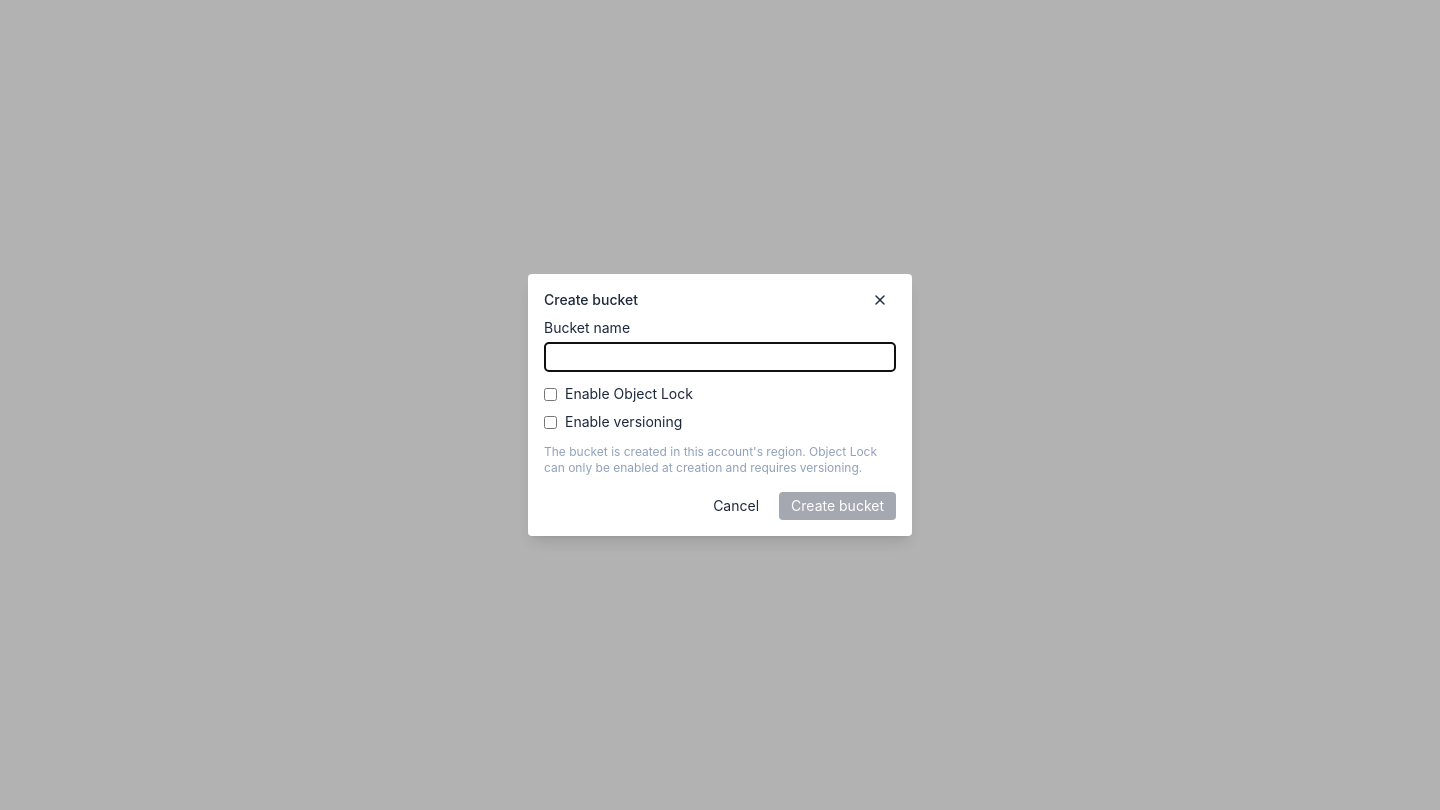
Scenario: CreateBucketDialog › shows an error and stays open when creation fails
In the field labelled "Bucket name": (720, 357) top-left (544, 342), bottom-right (896, 372), type "my-bucket"
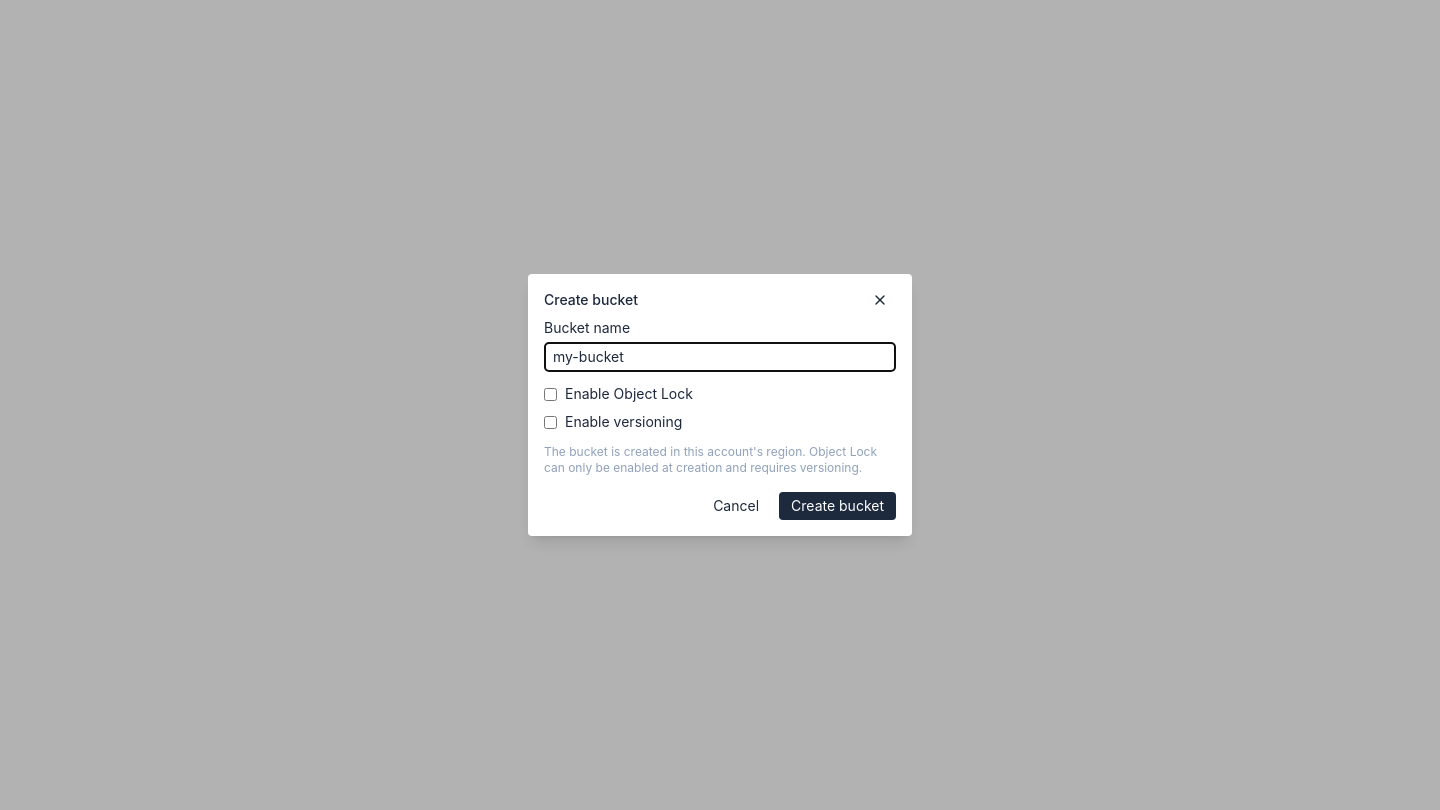
Click the button "Create bucket": (838, 506) top-left (779, 492), bottom-right (896, 520)
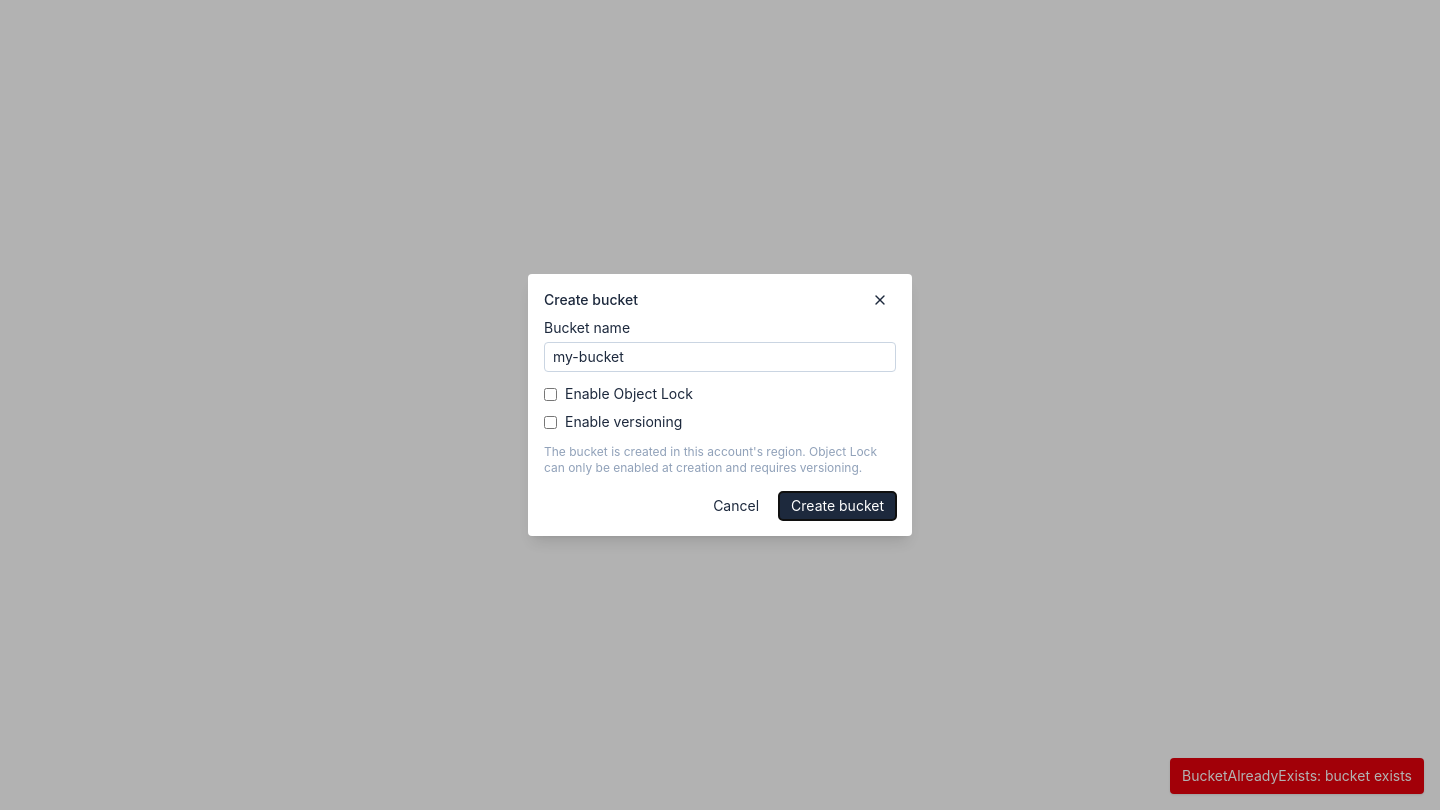
Now the text "BucketAlreadyExists: bucket exists" is shown, box top-left (1170, 758), bottom-right (1424, 794)
